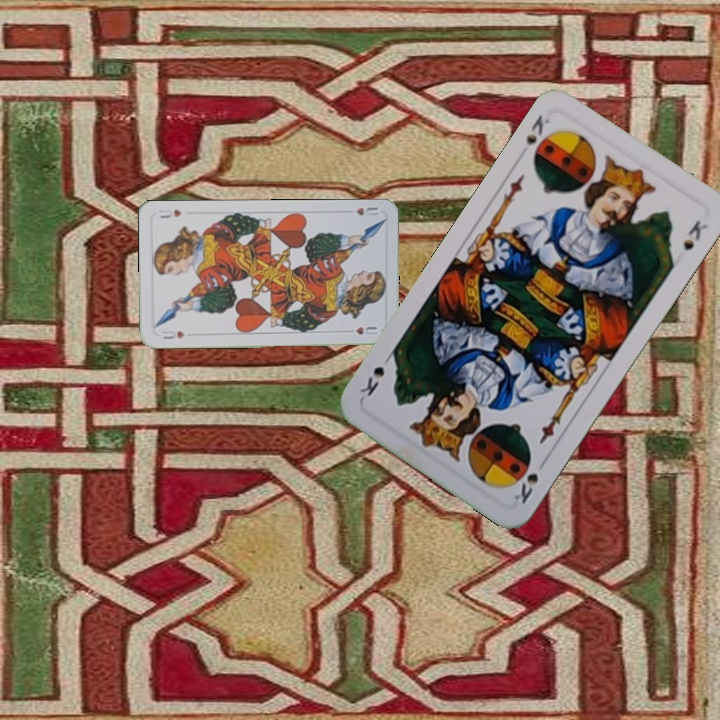HU: (353, 203, 381, 218), (158, 327, 187, 341)
SK: (509, 454, 550, 507), (521, 110, 552, 149)
